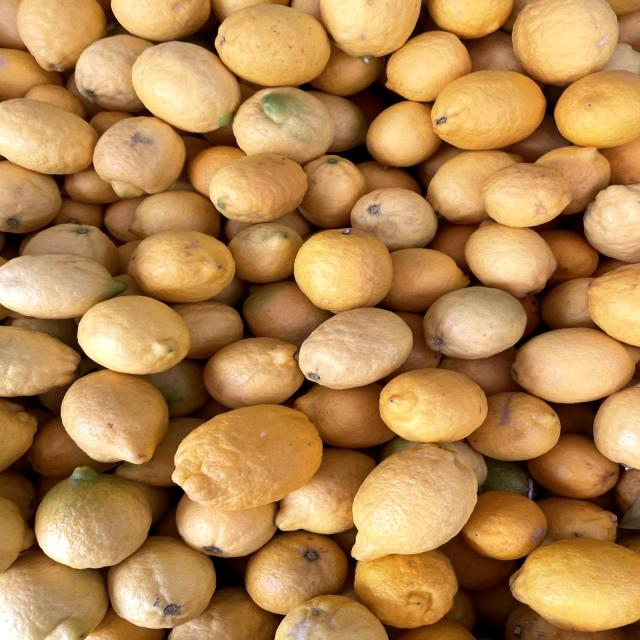lemon: (346, 440, 498, 566), (168, 402, 329, 510), (25, 463, 160, 572), (291, 208, 413, 318), (420, 61, 560, 156), (128, 34, 247, 137), (367, 365, 501, 449), (71, 292, 196, 380), (204, 146, 315, 226)
